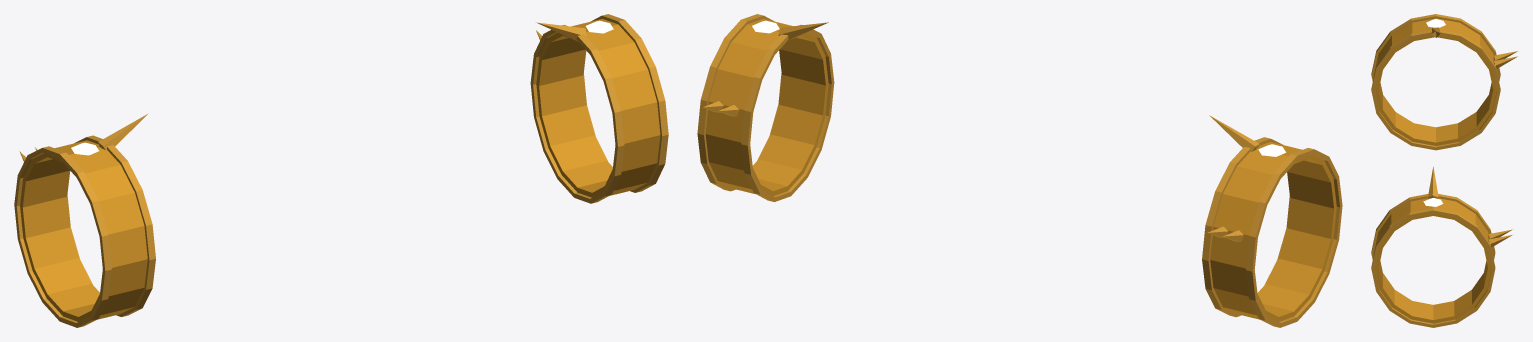
Rendered from armor_lord_arms_legendary_human.glb.
The picture shows the model from 3 angles, left to right: view 1: azimuth 30°, elevation 25°; view 2: azimuth 150°, elevation 25°; view 3: azimuth 270°, elevation 25°; orthographic projection. The views are drawn at different scales.
Visible parts, largest first — view 1: armor_lord_arms_legendary_human__lowerarm_r, armor_lord_arms_legendary_human__lowerarm_l; view 2: armor_lord_arms_legendary_human__lowerarm_r, armor_lord_arms_legendary_human__lowerarm_l; view 3: armor_lord_arms_legendary_human__lowerarm_r, armor_lord_arms_legendary_human__lowerarm_l.
Part boxes in pixels (x1,y1,x2,y2): armor_lord_arms_legendary_human__lowerarm_r: (14,113,155,327); armor_lord_arms_legendary_human__lowerarm_l: (530,14,668,203); armor_lord_arms_legendary_human__lowerarm_r: (1202,115,1342,327); armor_lord_arms_legendary_human__lowerarm_l: (697,14,834,201); armor_lord_arms_legendary_human__lowerarm_r: (1371,14,1517,150); armor_lord_arms_legendary_human__lowerarm_l: (1371,166,1512,327).
Bounding box in the file's own units: 119 × 37.81 × 38.04.
